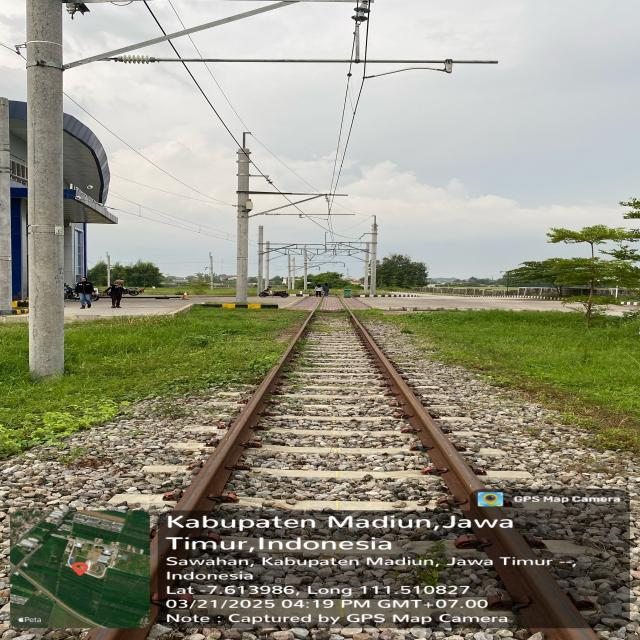rail-detection: (352, 315, 599, 640), (150, 317, 309, 610)
